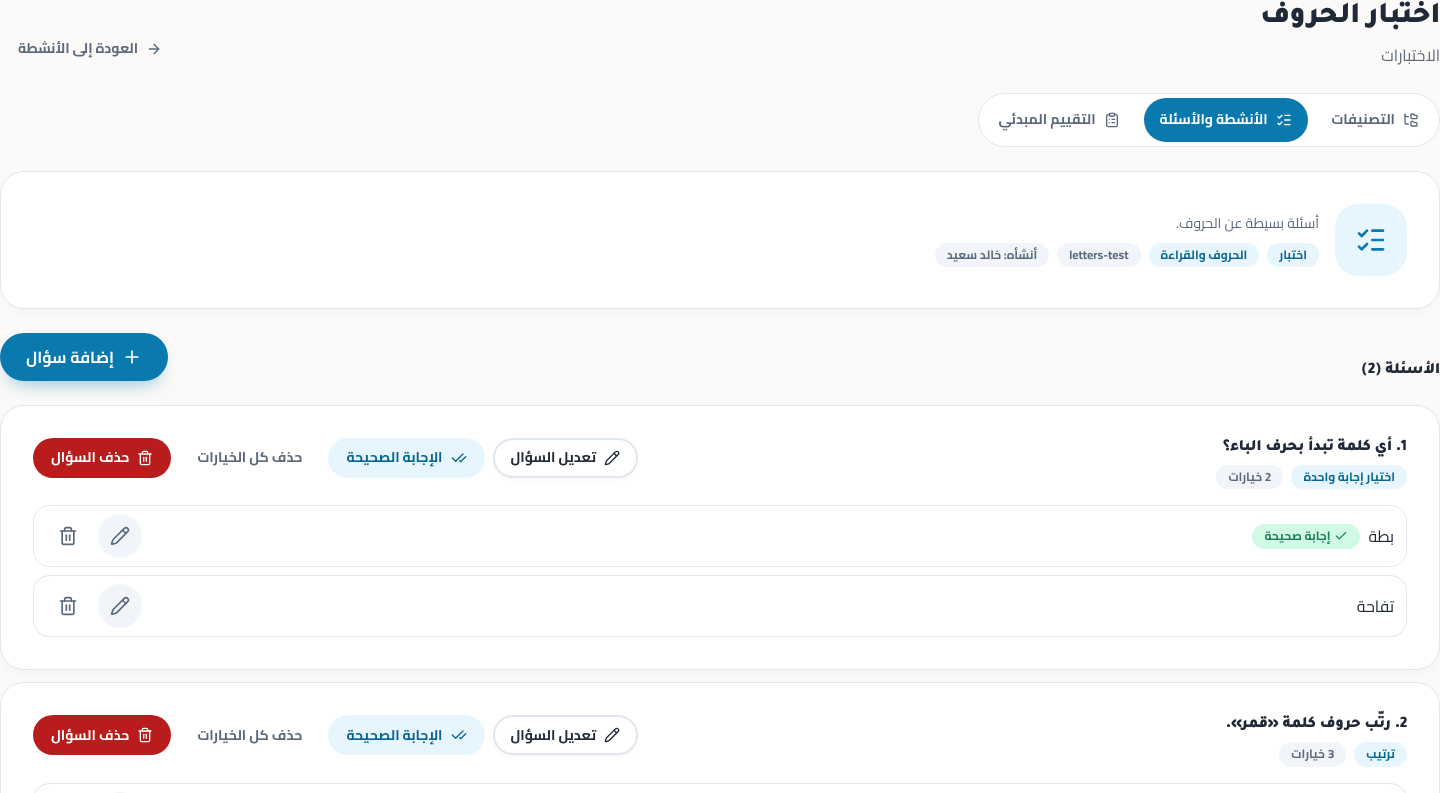
Test: ActivityDetailPage › edits an option
expect the heading "الأسئلة (2)" is shown: met, box [1361,361,1439,381]
Click the button named "تعديل الخيار: تفاحة" at {"x": 120, "y": 606}, box [98,584,142,628]
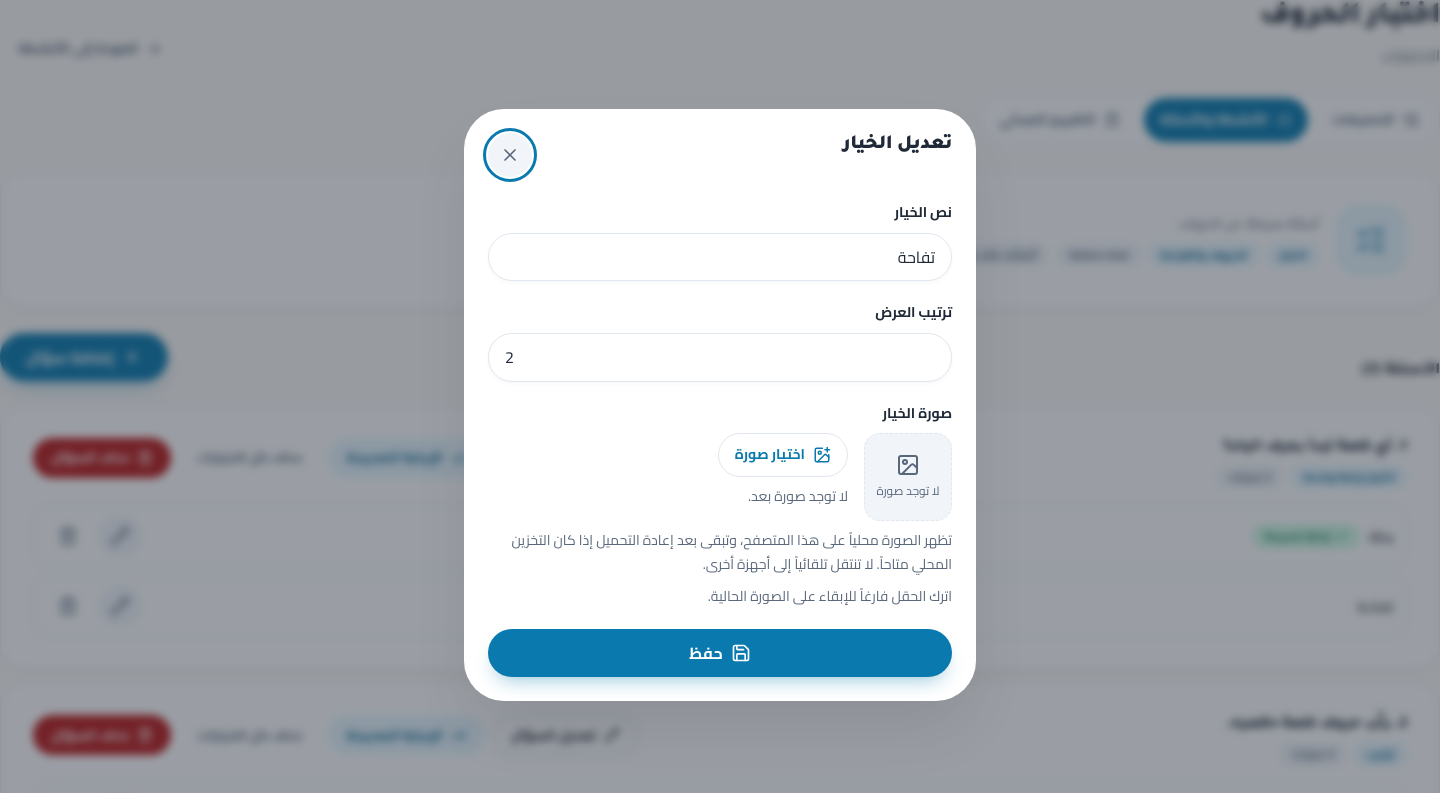
Replace the text in the field labelled "نص الخيار" with "تمر" at {"x": 720, "y": 257}, box [488,233,952,281]
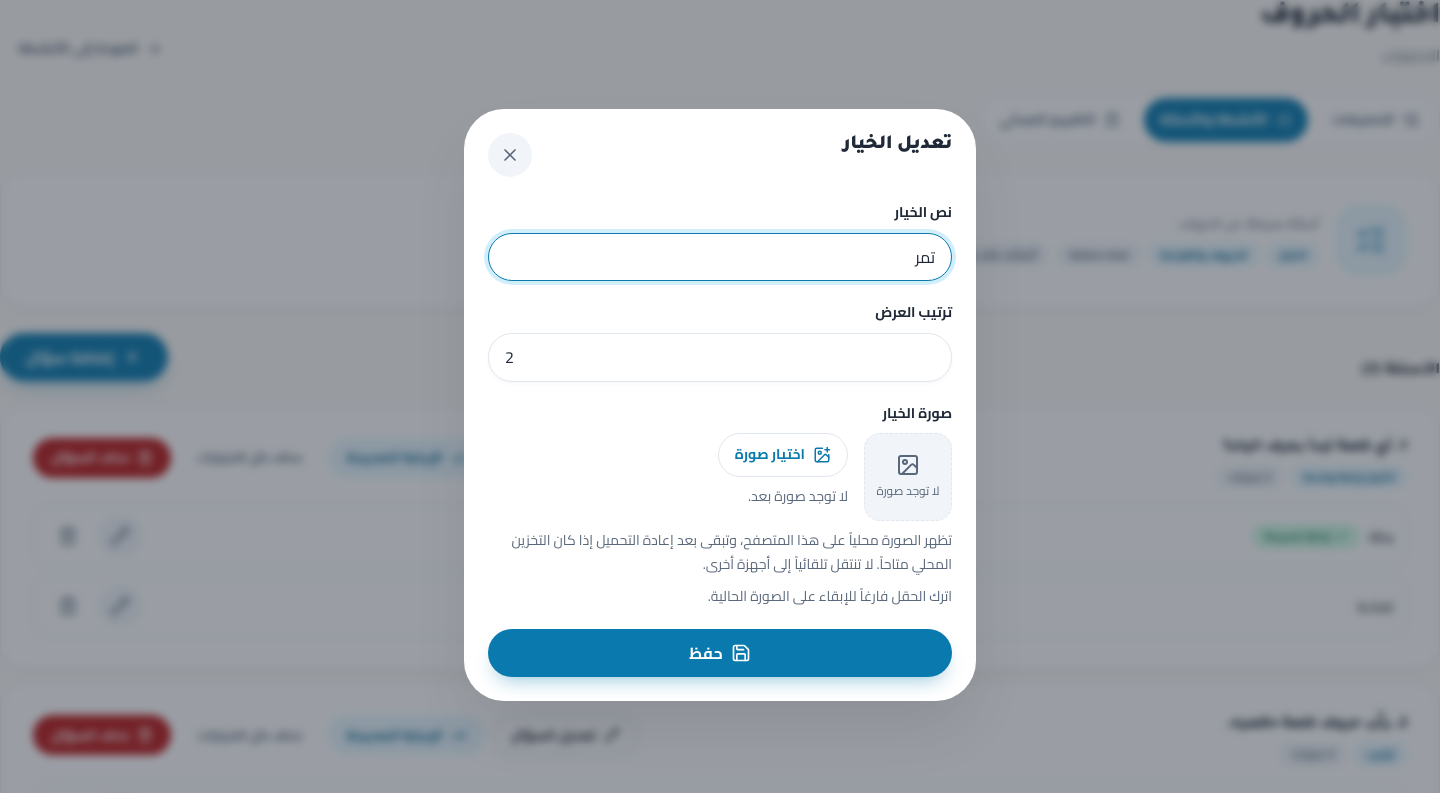
Click the button "حفظ" at {"x": 720, "y": 653}, box [488,629,952,677]
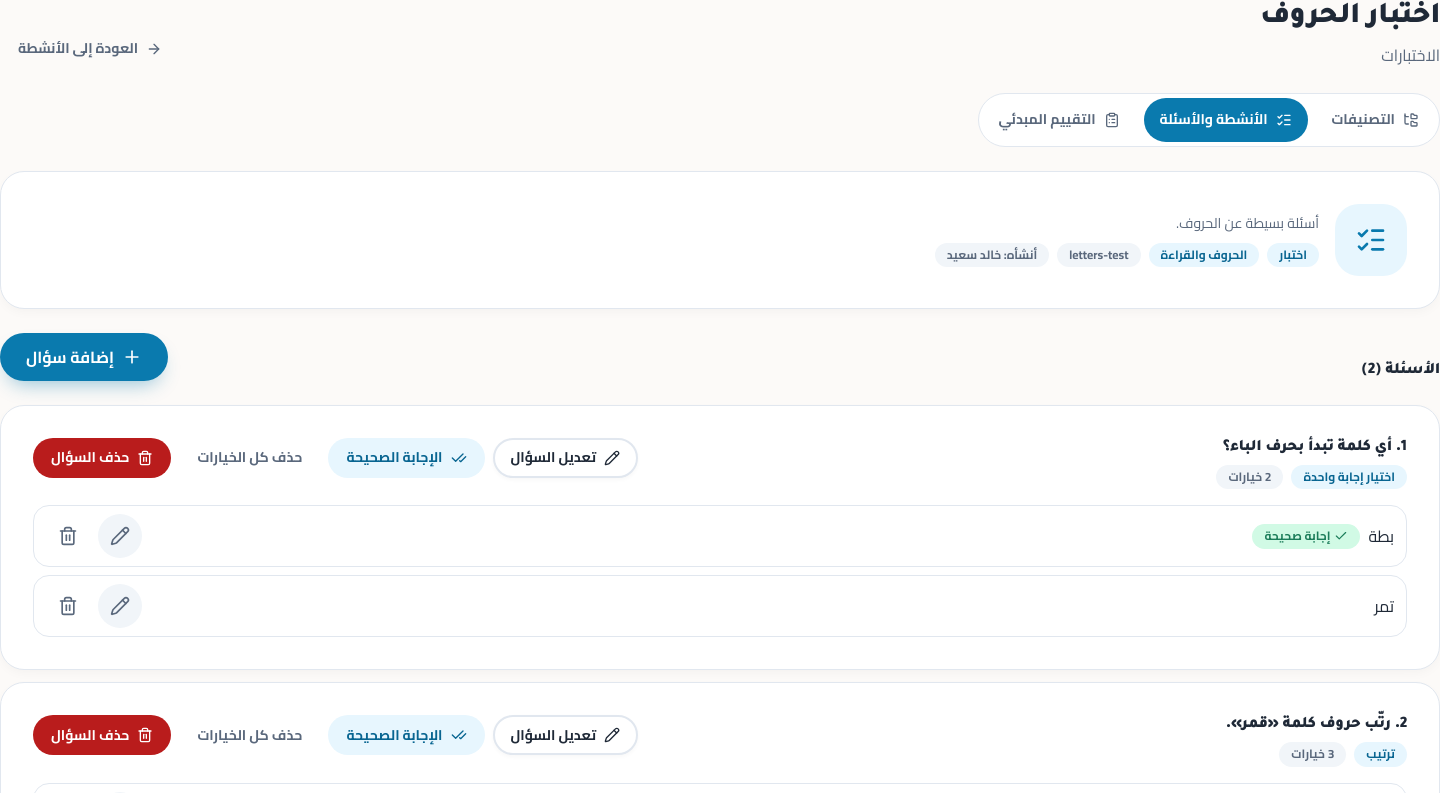
expect the text "تمر" is shown: met, box [1374,593,1394,620]
